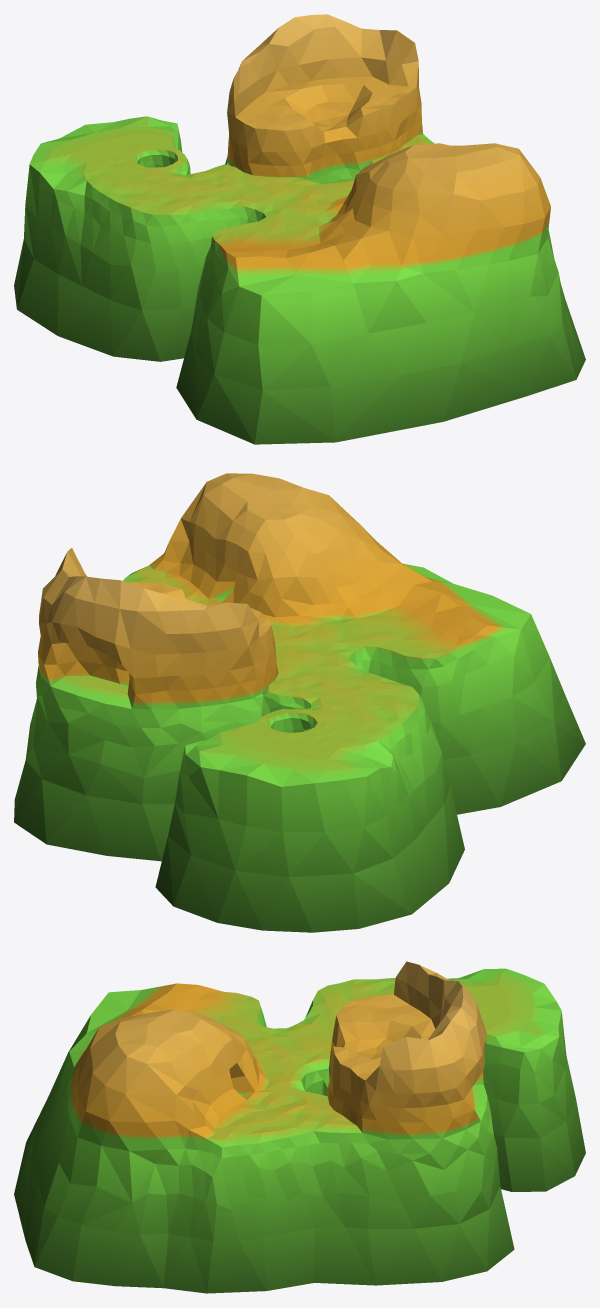
The model's file is Terrain.fbx.
The picture shows the model from 3 angles, top to bottom: view 1: azimuth 30°, elevation 25°; view 2: azimuth 150°, elevation 25°; view 3: azimuth 270°, elevation 25°; orthographic projection. The views are drawn at different scales.
Parts seen in each view (by area): view 1: Terrain; view 2: Terrain; view 3: Terrain.
Part boxes in pixels (box(x1,y1,x2,y2)): Terrain: box(14, 14, 585, 444); Terrain: box(14, 473, 585, 932); Terrain: box(14, 961, 585, 1293).
Bounding box in the file's own units: 8265 × 4578 × 9804.
